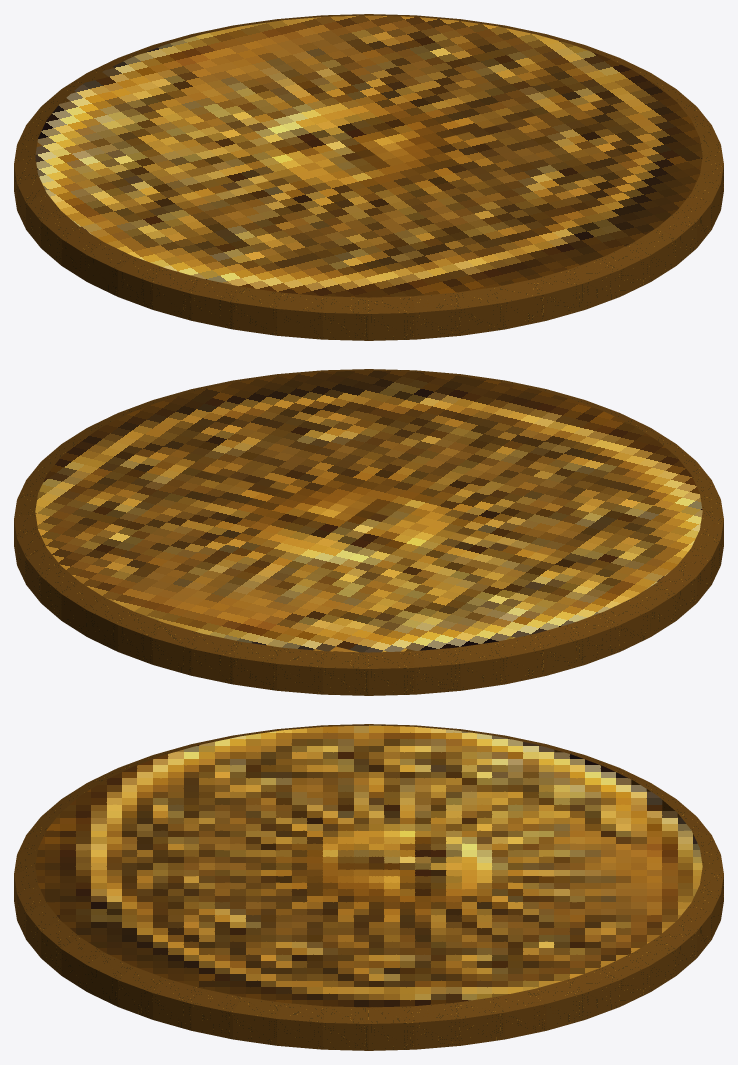
File: gold.obj
3 renders of one model, top to bottom at view 1: azimuth 30°, elevation 25°; view 2: azimuth 150°, elevation 25°; view 3: azimuth 270°, elevation 25°, orthographic.
Visible parts, largest first — view 1: CaelumDropCoin_gold; view 2: CaelumDropCoin_gold; view 3: CaelumDropCoin_gold.
Part boxes in pixels (x1,y1,x2,y2): CaelumDropCoin_gold: [14, 14, 723, 340]; CaelumDropCoin_gold: [14, 369, 723, 695]; CaelumDropCoin_gold: [14, 724, 723, 1050].
Bounding box in the file's own units: 46 × 3 × 46.
1 material, 1 textured.
